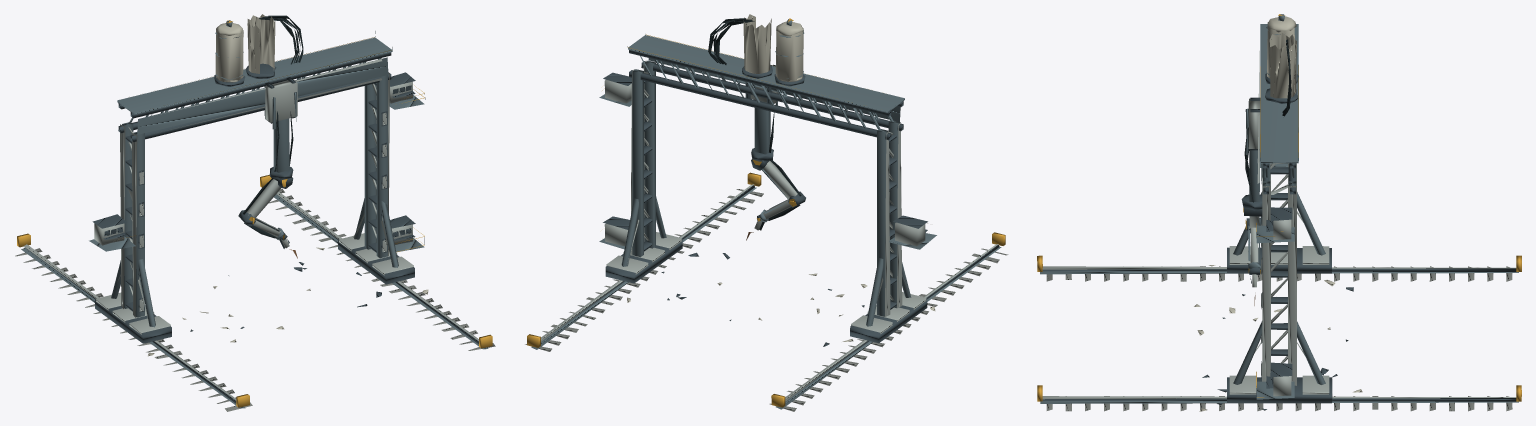
File: terraformer_3000_d2_lod2.meshopt.glb
3 renders of one model, left to right at view 1: azimuth 30°, elevation 25°; view 2: azimuth 150°, elevation 25°; view 3: azimuth 270°, elevation 25°, orthographic. The views are drawn at different scales.
Visible parts, largest first — view 1: TERRAFORMER_3000_LOD2_STATIC_GEOMETRY; view 2: TERRAFORMER_3000_LOD2_STATIC_GEOMETRY; view 3: TERRAFORMER_3000_LOD2_STATIC_GEOMETRY.
Boxes of the visible parts, bbox=[...] form: TERRAFORMER_3000_LOD2_STATIC_GEOMETRY: bbox=[15, 14, 495, 411]; TERRAFORMER_3000_LOD2_STATIC_GEOMETRY: bbox=[525, 14, 1008, 411]; TERRAFORMER_3000_LOD2_STATIC_GEOMETRY: bbox=[1037, 14, 1521, 411].
Size of the model in its own units: 42.04 by 35.96 by 50.59.
